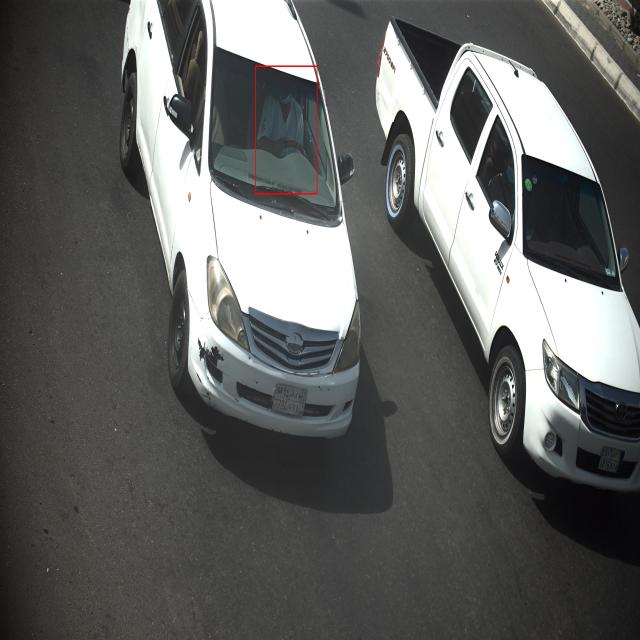windshield: (205, 40, 345, 226), (513, 146, 623, 294)
